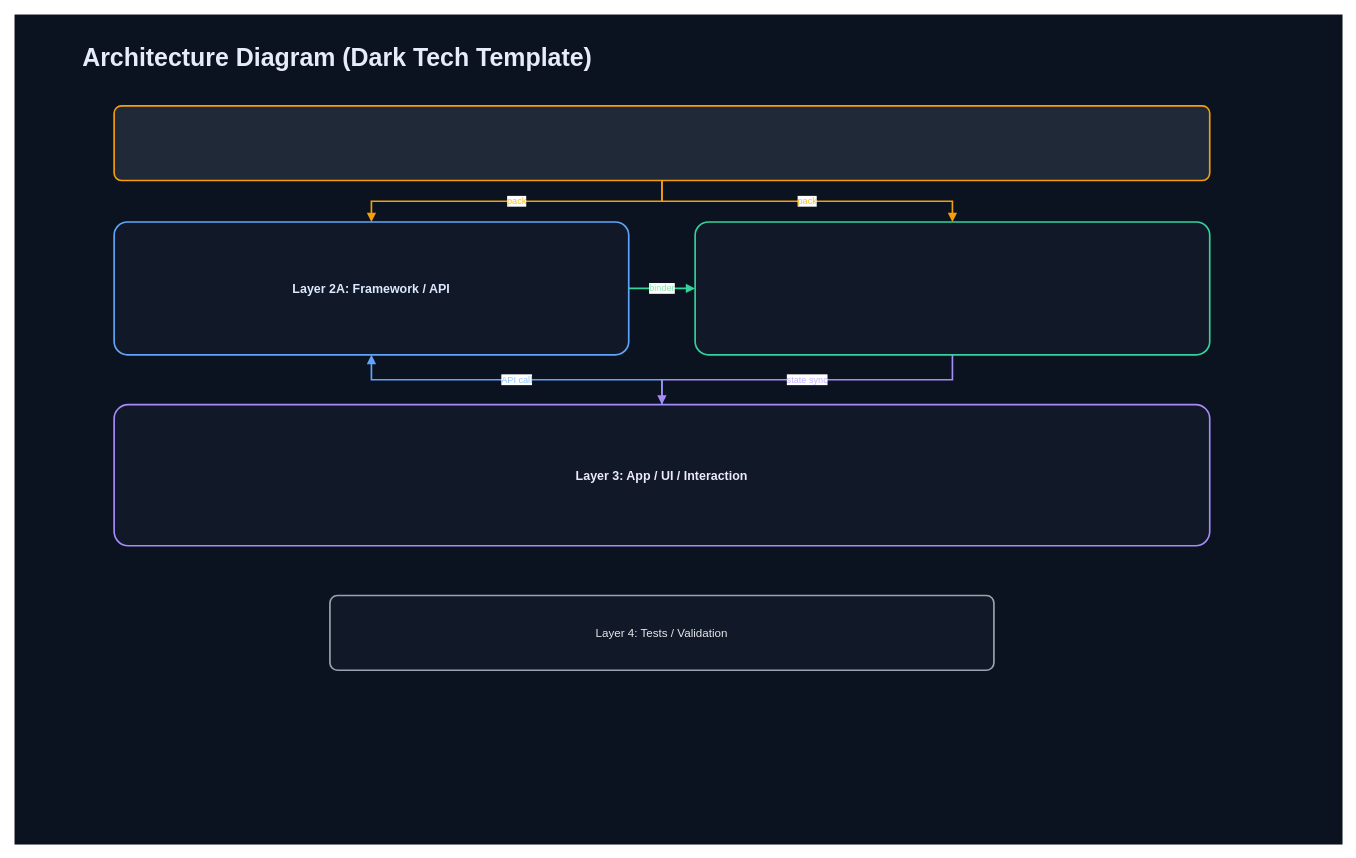
This 1356x858 diagram has some shape labels left out. The shapes that lost their labels are listed below. From the top down, each one's centre as x and y in pixels, then its label:
[661,143]: Layer 1: Packaging / Platform
[952,288]: Layer 2B: Service / Engine
